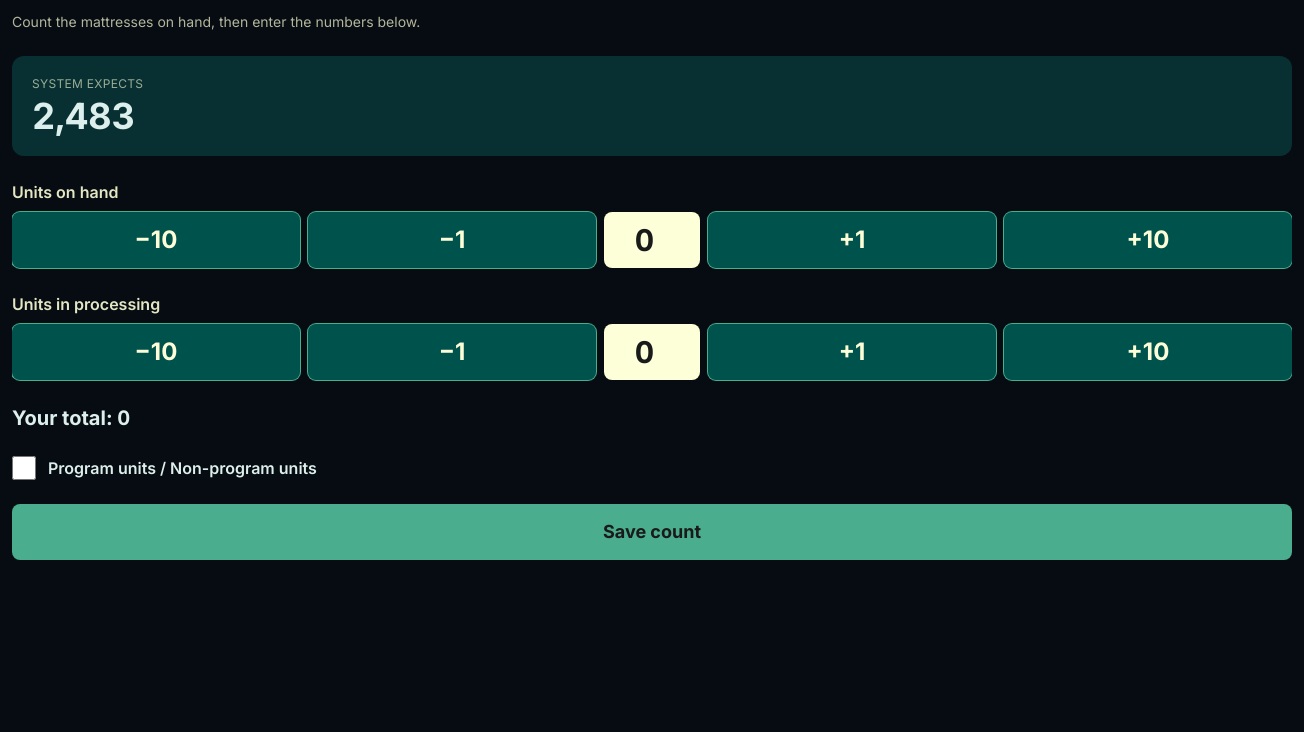
Test: 422 date_not_today — the midnight-boundary save › names the day as the reason instead of "Couldn't save. Try again."
Click the button "Save count": (652,532) x1=12 y1=504 x2=1292 y2=560
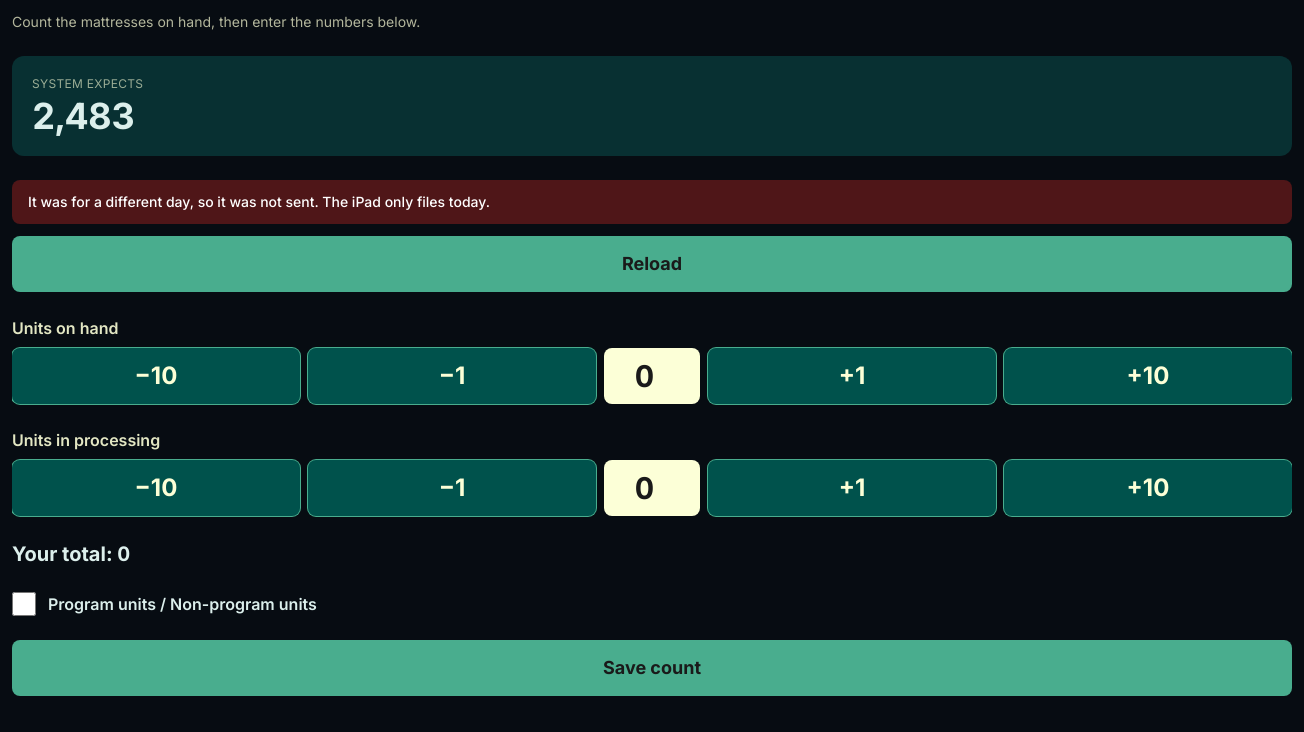
Expected: the element with test id "write-refusal" is shown, x1=12 y1=180 x2=1292 y2=292
Expected: the text "It was for a different day, so it was not sent. The iPad only files today." is shown, x1=12 y1=180 x2=1292 y2=224
